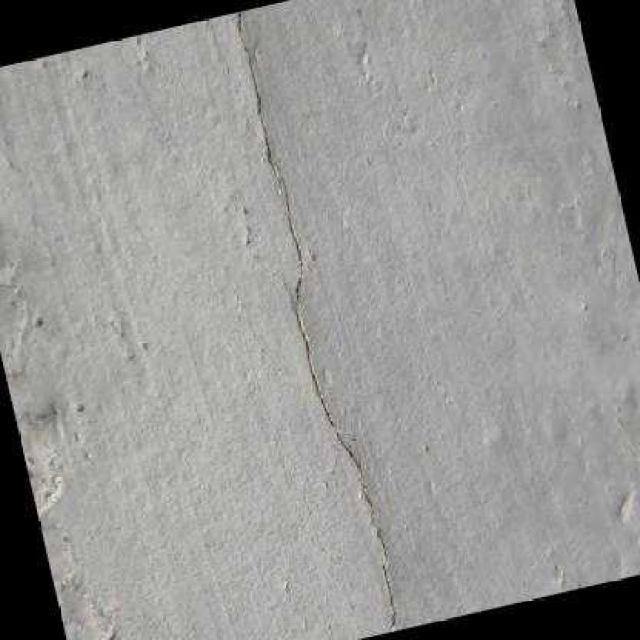D00: (281, 182, 395, 633), (234, 10, 285, 224)
